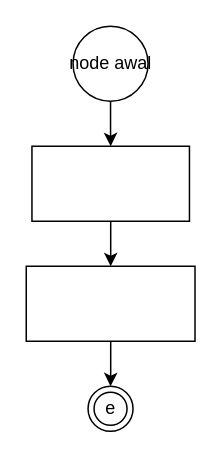
This 222x458 diagram has some shape labels left out. Each missing label, with the centre of its shape:
Buka daftar peralatan: pixel 109 183
Lihat informasi ketersediaan: pixel 110 303
